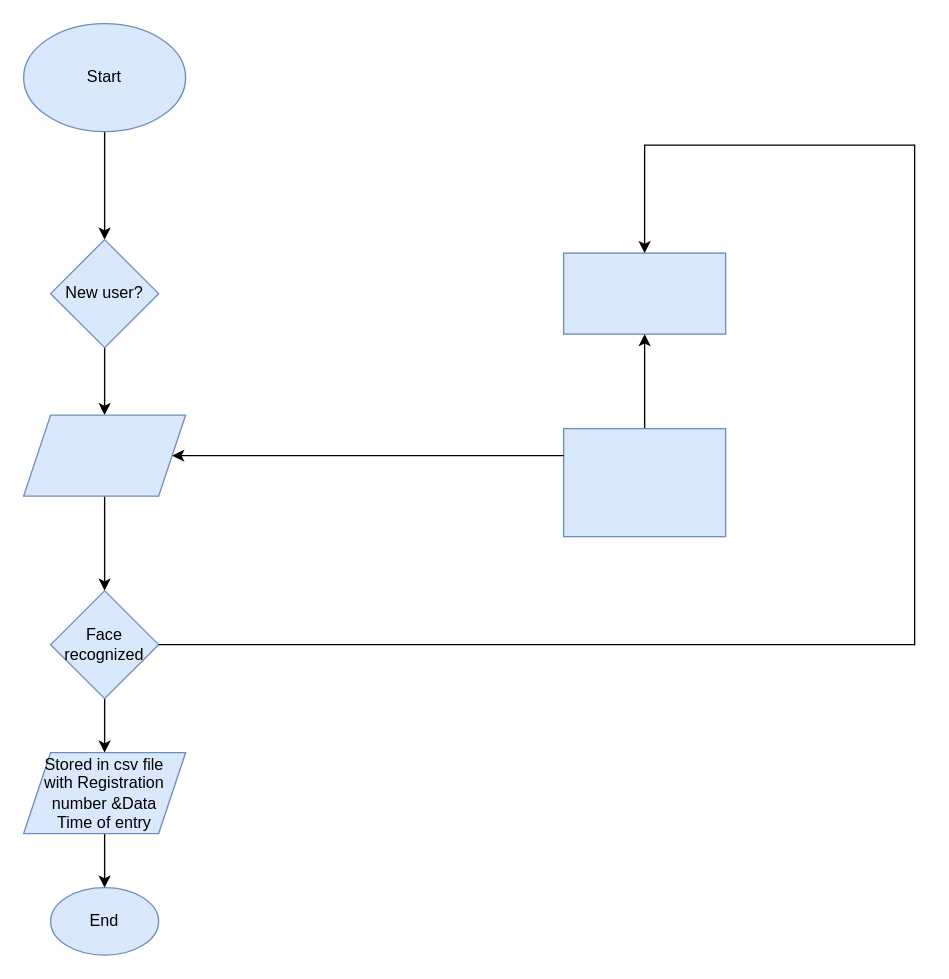
This 949x979 diagram has some shape labels left out. Here are the shapes that lost their labels. From the top down, the box of each, then its label:
(562, 252, 726, 334): Give your photograph
(22, 414, 186, 496): Recognize the face
